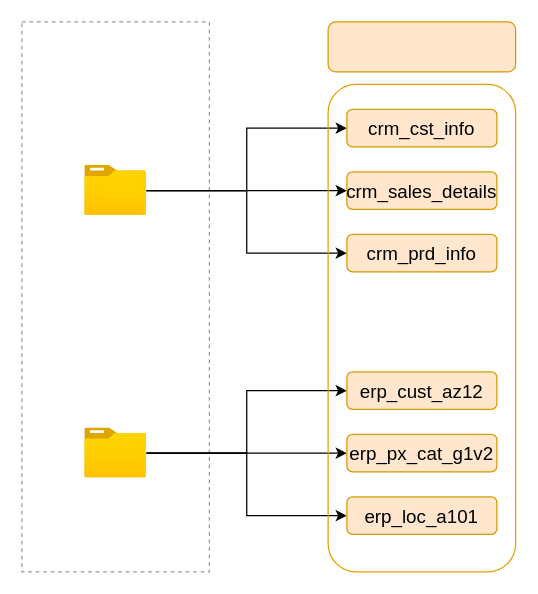
The diagram is 538 pixels wide and 594 high, and some of its shapes have lost their labels. Each missing label, with the centre of its shape:
Bronze Layer: the point at 421,46
CRM: the point at 115,190
ERP: the point at 115,453
